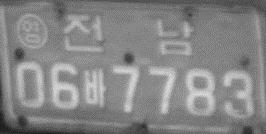0: (15, 59, 45, 109)
3: (221, 70, 255, 120)
6: (48, 61, 79, 110)
7: (148, 65, 177, 116), (110, 65, 140, 114)
8: (184, 67, 218, 117)
바: (82, 67, 108, 108)
영: (15, 12, 50, 49)
전남_D: (62, 13, 194, 56)
